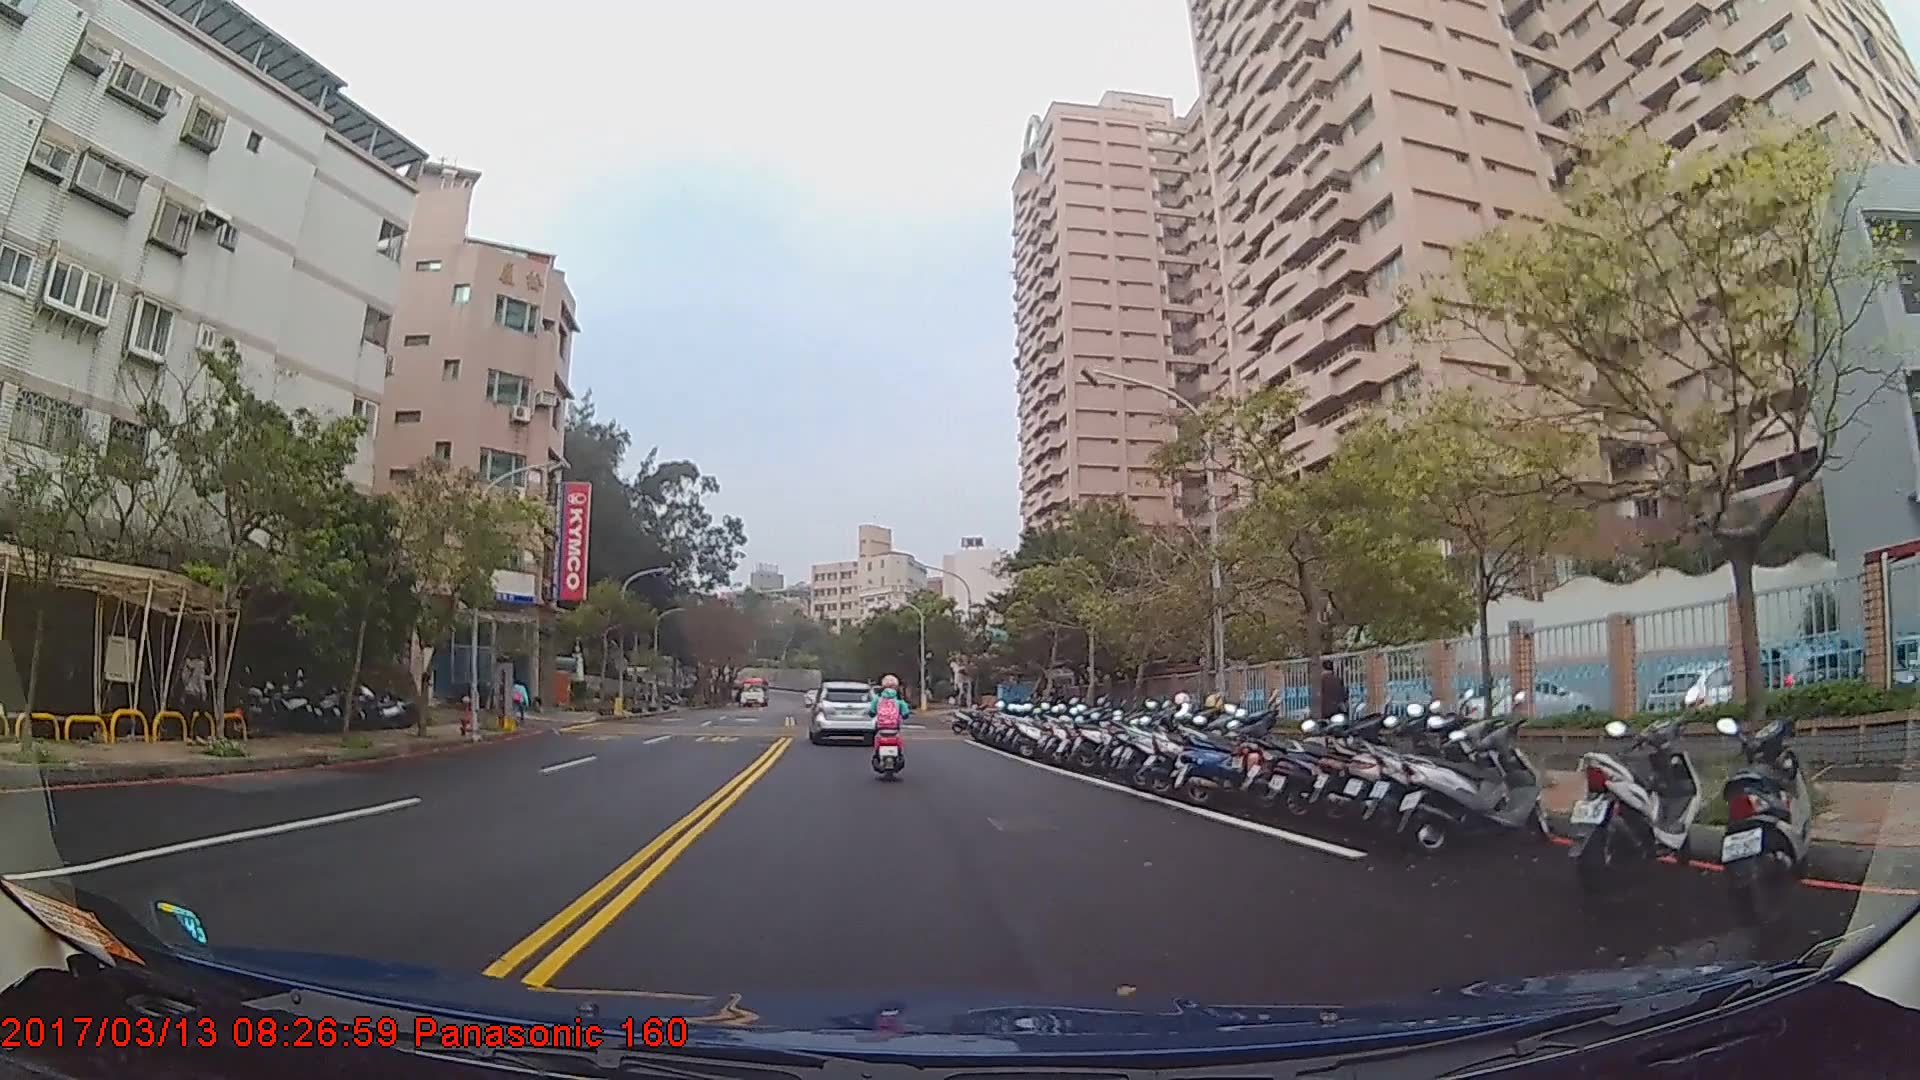pedestrian: (1308, 658, 1352, 758), (178, 641, 208, 747)
rider: (867, 674, 912, 784)
vehicle: (810, 679, 877, 745), (735, 674, 769, 708)
